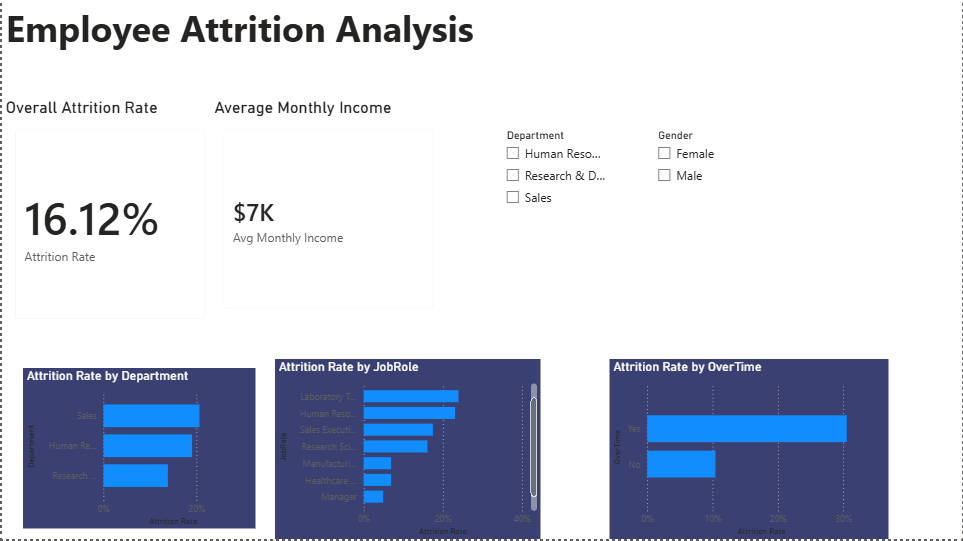

The dashboard page shown, as its layout file describes it:
{"tool":"powerbi","page":{"name":"Page 1","canvas":[1280,720],"ordinal":0},"visuals":[{"type":"cardVisual","title":"Overall Attrition Rate","fields":{"Data":["WA_Fn-UseC_-HR-Employee-Attrition.Attrition Rate"]},"box":[0,132,288,312],"z":0},{"type":"cardVisual","title":"Average Monthly Income","fields":{"Data":["WA_Fn-UseC_-HR-Employee-Attrition.Avg Monthly Income"]},"box":[278,132,314,298],"z":1000},{"type":"clusteredBarChart","fields":{"Category":["WA_Fn-UseC_-HR-Employee-Attrition.Department"],"Y":["WA_Fn-UseC_-HR-Employee-Attrition.Attrition Rate"]},"box":[28,492,310,214],"z":2000},{"type":"clusteredBarChart","fields":{"Y":["WA_Fn-UseC_-HR-Employee-Attrition.Attrition Rate"],"Category":["WA_Fn-UseC_-HR-Employee-Attrition.JobRole"]},"box":[364,480,354,240],"z":3000},{"type":"clusteredBarChart","fields":{"Y":["WA_Fn-UseC_-HR-Employee-Attrition.Attrition Rate"],"Category":["WA_Fn-UseC_-HR-Employee-Attrition.OverTime"]},"box":[810,480,372,240],"z":3001},{"type":"slicer","fields":{"Values":["WA_Fn-UseC_-HR-Employee-Attrition.Department"]},"box":[660,168,150,240],"z":3002},{"type":"slicer","fields":{"Values":["WA_Fn-UseC_-HR-Employee-Attrition.Gender"]},"box":[862,168,150,240],"z":3003},{"type":"textbox","box":[0,0,1280,134],"z":3004}]}

Visuals, with their boxes in screenshot pixels (x1, y1, x2, y2), scaled from the page's 1280x720 canvas onto the 963x541 screenshot:
"Overall Attrition Rate" cardVisual: (left=0, top=99, right=217, bottom=334)
"Average Monthly Income" cardVisual: (left=209, top=99, right=445, bottom=323)
clusteredBarChart - WA_Fn-UseC_-HR-Employee-Attrition.Department x WA_Fn-UseC_-HR-Employee-Attrition.Attrition Rate: (left=21, top=370, right=254, bottom=530)
clusteredBarChart - WA_Fn-UseC_-HR-Employee-Attrition.Attrition Rate x WA_Fn-UseC_-HR-Employee-Attrition.JobRole: (left=274, top=361, right=540, bottom=540)
clusteredBarChart - WA_Fn-UseC_-HR-Employee-Attrition.Attrition Rate x WA_Fn-UseC_-HR-Employee-Attrition.OverTime: (left=609, top=361, right=889, bottom=540)
slicer - WA_Fn-UseC_-HR-Employee-Attrition.Department: (left=497, top=126, right=609, bottom=307)
slicer - WA_Fn-UseC_-HR-Employee-Attrition.Gender: (left=649, top=126, right=761, bottom=307)
textbox: (left=0, top=0, right=962, bottom=101)
